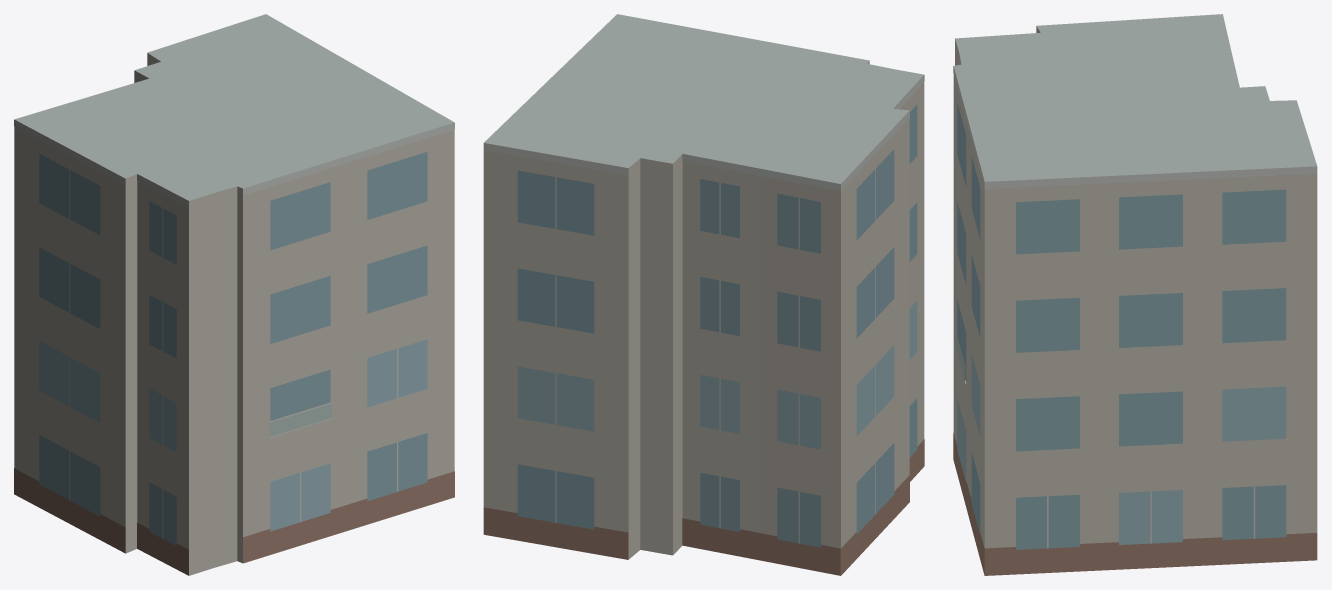
File: survey-upis-32972023.glb
3 renders of one model, left to right at view 1: azimuth 30°, elevation 25°; view 2: azimuth 150°, elevation 25°; view 3: azimuth 270°, elevation 25°, orthographic. The views are drawn at different scales.
Visible parts, largest first — view 1: survey-upis-32972023.tmp; view 2: survey-upis-32972023.tmp; view 3: survey-upis-32972023.tmp.
Part boxes in pixels (left/top/right/bottom): survey-upis-32972023.tmp: left=14, top=14, right=454, bottom=575; survey-upis-32972023.tmp: left=483, top=14, right=924, bottom=575; survey-upis-32972023.tmp: left=953, top=14, right=1317, bottom=575.
Bounding box in the file's own units: 12.07 × 13.2 × 11.06.
